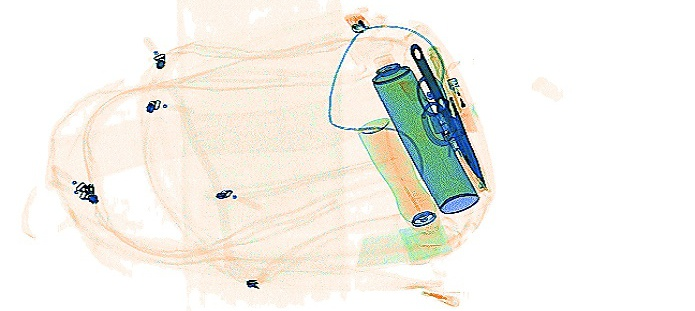handcuffs: (411, 71, 467, 148)
knife: (425, 41, 490, 191), (406, 39, 470, 164)
lighter: (444, 75, 477, 134)
pressure: (368, 49, 480, 215), (354, 113, 442, 237)
